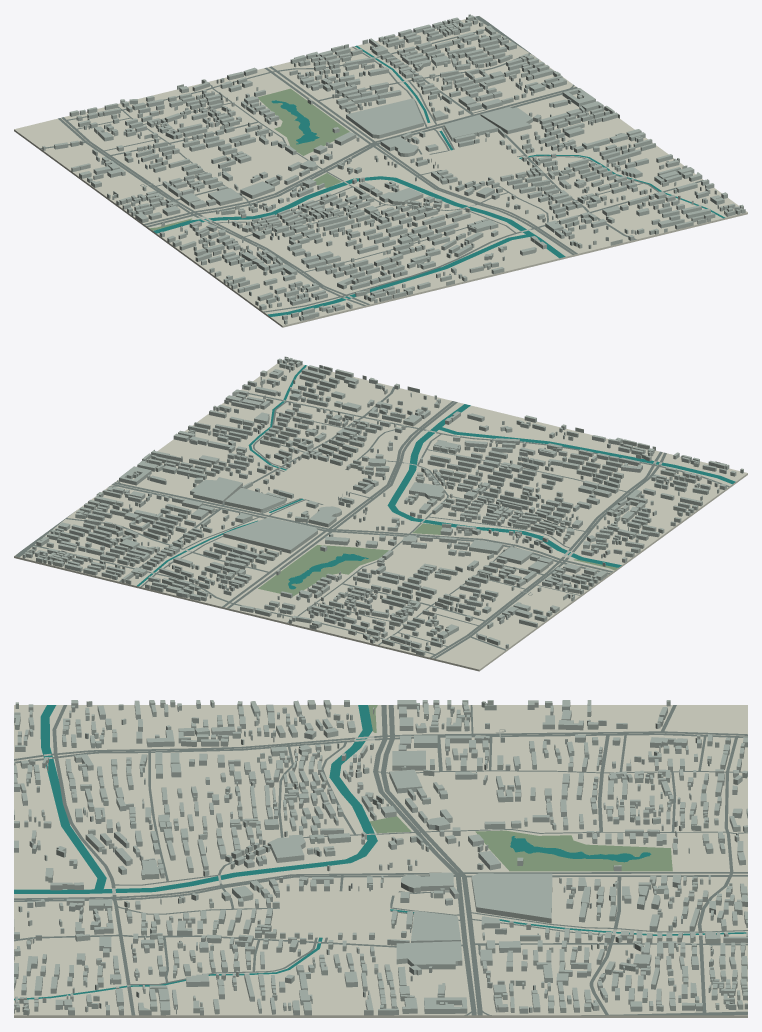
The model's file is jining_context_v02.glb.
The picture shows the model from 3 angles, top to bottom: view 1: azimuth 30°, elevation 25°; view 2: azimuth 150°, elevation 25°; view 3: azimuth 270°, elevation 25°; orthographic projection. The views are drawn at different scales.
Visible parts, largest first — view 1: Context_building, Context_Base, Context_road, Context_water, Context_park; view 2: Context_building, Context_Base, Context_road, Context_water, Context_park; view 3: Context_Base, Context_building, Context_road, Context_water, Context_park.
Part boxes in pixels (<box>): Context_building: <box>42,14,745,324</box>; Context_Base: <box>14,16,747,327</box>; Context_road: <box>40,16,703,312</box>; Context_water: <box>153,45,725,316</box>; Context_park: <box>150,88,349,230</box>; Context_building: <box>22,356,743,655</box>; Context_Base: <box>14,360,747,671</box>; Context_road: <box>15,386,729,658</box>; Context_water: <box>137,365,735,589</box>; Context_park: <box>258,523,617,596</box>; Context_Base: <box>14,705,747,1017</box>; Context_building: <box>14,700,747,1015</box>; Context_road: <box>14,705,747,1015</box>; Context_water: <box>14,705,746,1000</box>; Context_park: <box>368,705,672,871</box>.
Bounding box in the file's own units: 1600 × 18.18 × 1600.
